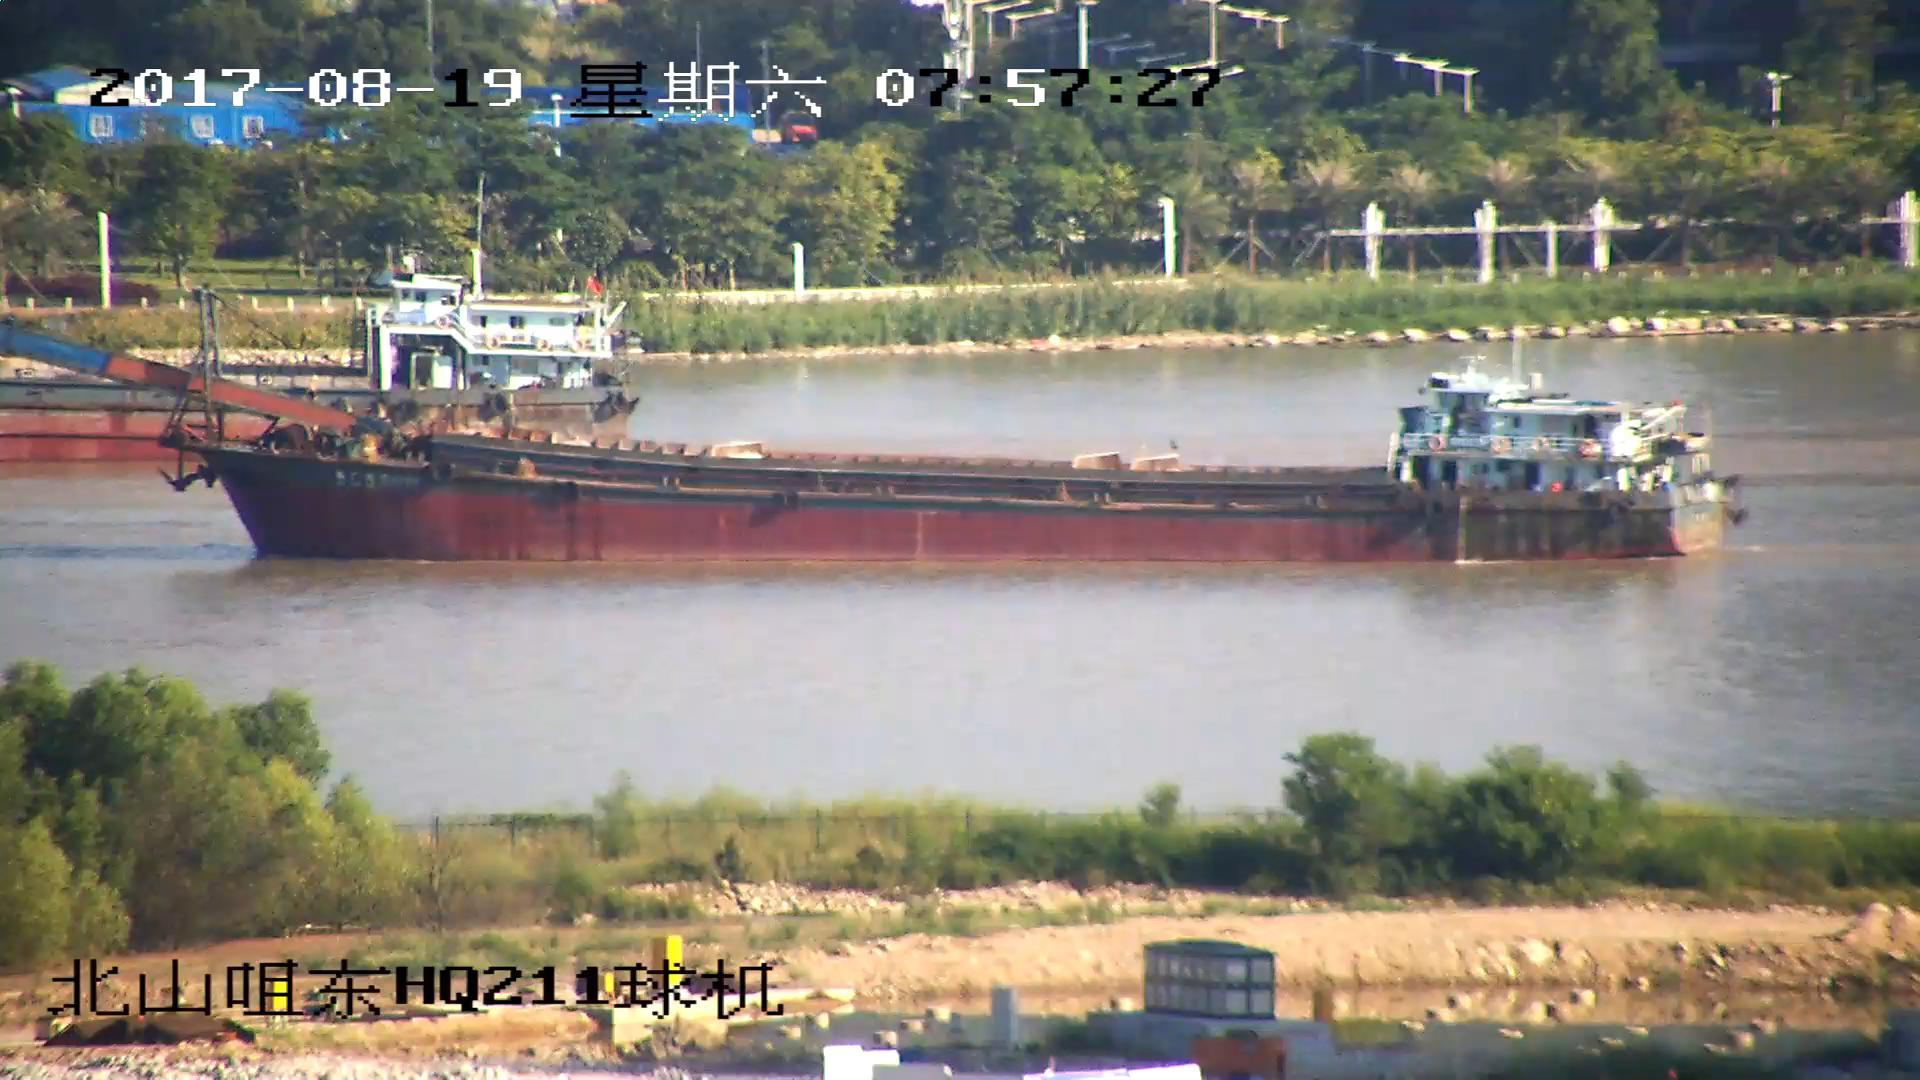Ship: (3, 284, 1749, 566), (3, 270, 641, 440)
